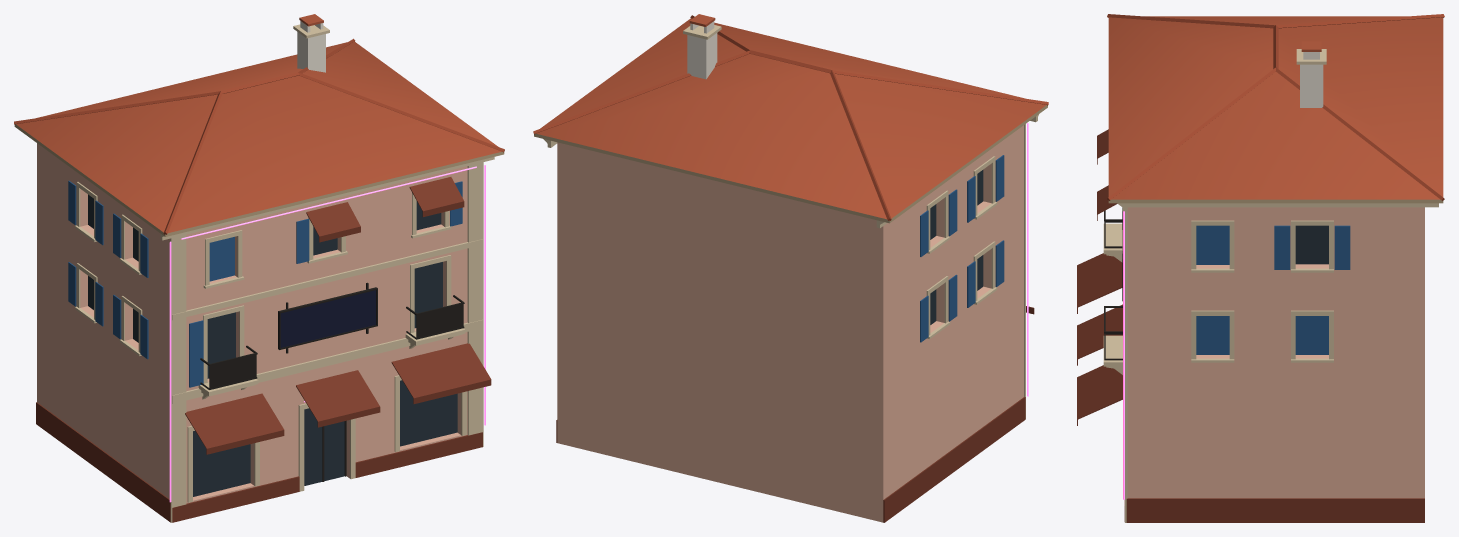
3 renders of one model, left to right at view 1: azimuth 30°, elevation 25°; view 2: azimuth 150°, elevation 25°; view 3: azimuth 270°, elevation 25°, orthographic. The views are drawn at different scales.
Visible parts, largest first — view 1: social.lod1; view 2: social.lod1; view 3: social.lod1.
Boxes of the visible parts, x1,y1,x2,y2 form: social.lod1: (14, 14, 504, 522); social.lod1: (533, 14, 1048, 522); social.lod1: (1077, 14, 1444, 522).
Size of the model in its own units: 13.2 by 14.31 by 11.1.
